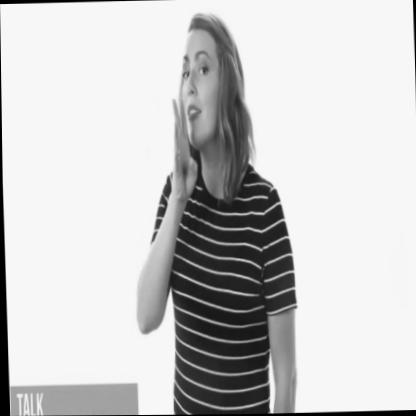Talk: (152, 12, 258, 230)
